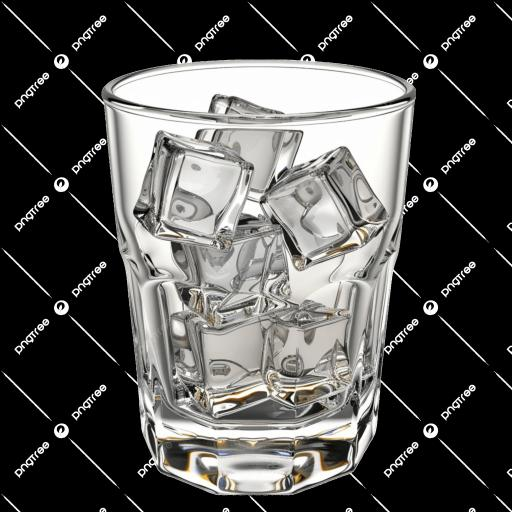cup: (102, 60, 415, 496)
